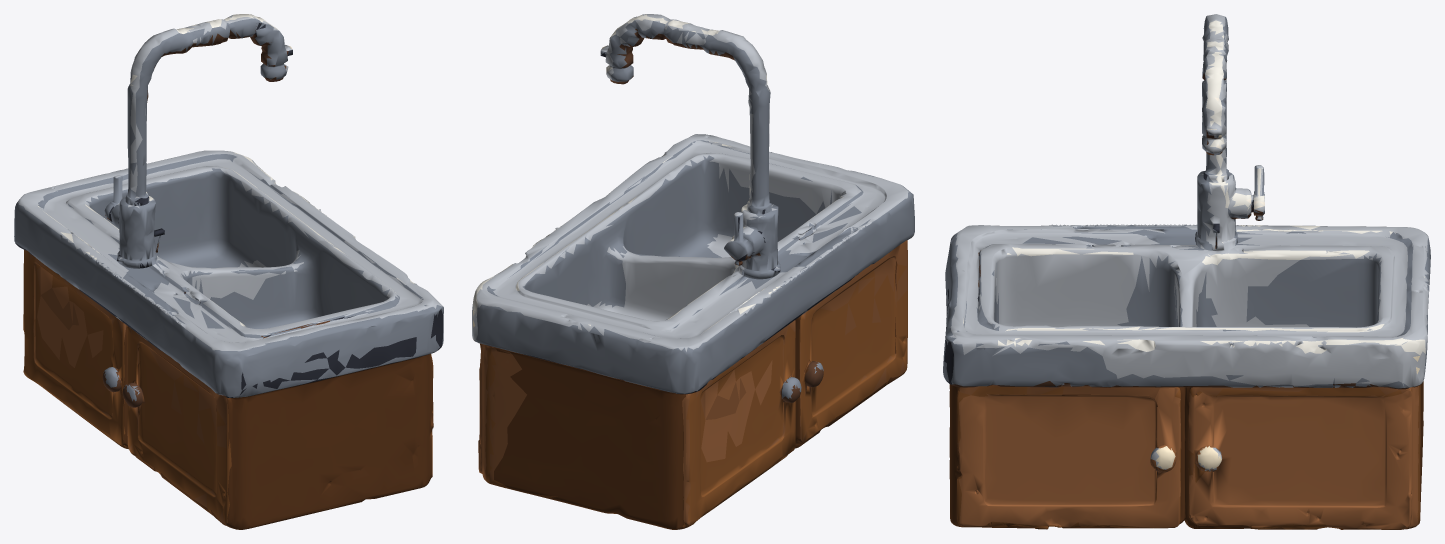
Rendered from SM_sink_cabinet.glb.
The picture shows the model from 3 angles, left to right: view 1: azimuth 30°, elevation 25°; view 2: azimuth 150°, elevation 25°; view 3: azimuth 270°, elevation 25°; orthographic projection. The views are drawn at different scales.
Parts seen in each view (by area): view 1: SM_sink_cabinet; view 2: SM_sink_cabinet; view 3: SM_sink_cabinet.
Boxes of the visible parts, x1,y1,x2,y2 form: SM_sink_cabinet: (14, 14, 443, 529); SM_sink_cabinet: (472, 14, 914, 529); SM_sink_cabinet: (943, 14, 1430, 529).
Size of the model in its own units: 0.5033 by 0.85 by 0.8609.
1 material, 1 textured.
